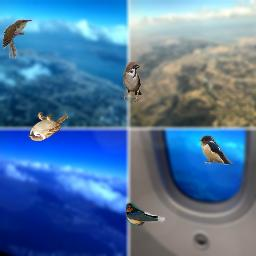Cuckoo: (3, 19, 32, 59)
Sparrow: (28, 112, 68, 141), (123, 62, 142, 102)
Swallow: (199, 135, 233, 165), (125, 202, 165, 226)
